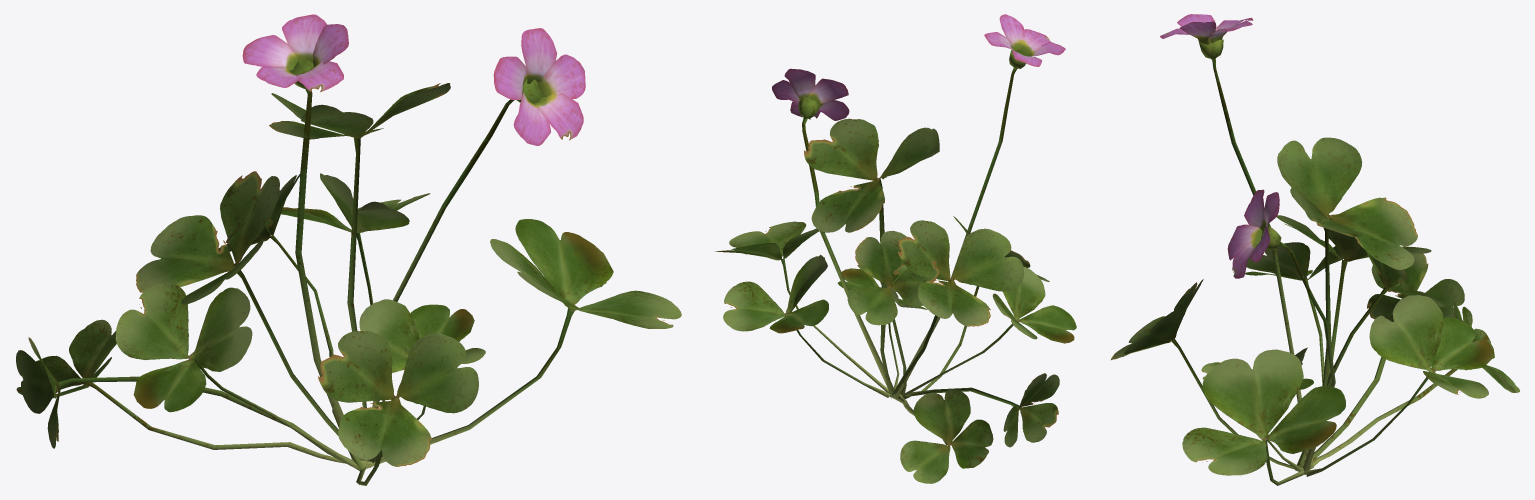
File: ph-sorrel-d.glb
3 views of the same model, side by side, from view 1: azimuth 30°, elevation 25°; view 2: azimuth 150°, elevation 25°; view 3: azimuth 270°, elevation 25° (orthographic). The views are drawn at different scales.
Visible parts, largest first — view 1: ph-sorrel-d; view 2: ph-sorrel-d; view 3: ph-sorrel-d.
Boxes of the visible parts, x1,y1,x2,y2 form: ph-sorrel-d: (16, 14, 681, 485); ph-sorrel-d: (715, 14, 1076, 483); ph-sorrel-d: (1111, 14, 1519, 485).
Size of the model in its own units: 0.0609 by 0.0544 by 0.0487.
1 material, 1 textured.
